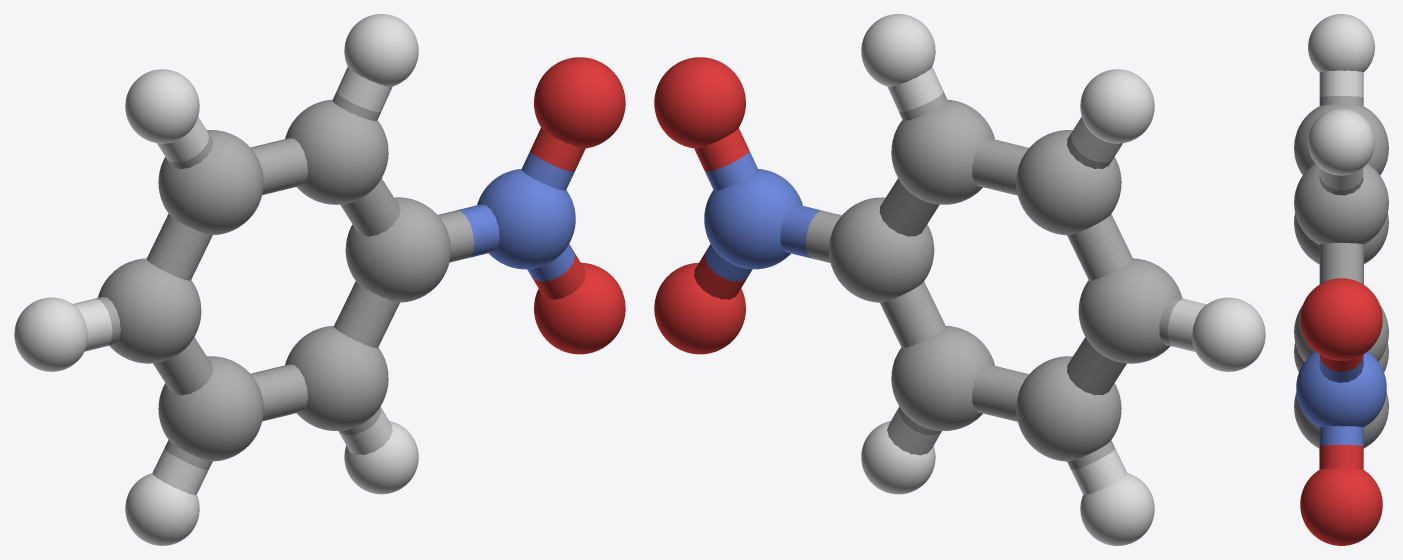
Rendered from 7416-bas-color-print_NIH3D.glb.
The picture shows the model from 3 angles, left to right: view 1: azimuth 30°, elevation 25°; view 2: azimuth 150°, elevation 25°; view 3: azimuth 270°, elevation 25°; orthographic projection. The views are drawn at different scales.
Visible parts, largest first — view 1: atoms, bonds; view 2: atoms, bonds; view 3: atoms, bonds.
Boxes of the visible parts, <box> form: atoms: <box>14,14,625,545</box>; bonds: <box>73,67,585,495</box>; atoms: <box>654,14,1265,545</box>; bonds: <box>694,66,1206,494</box>; atoms: <box>1294,14,1388,545</box>; bonds: <box>1319,70,1363,469</box>.
Bounding box in the file's own units: 6.71 × 5.06 × 1.02.
